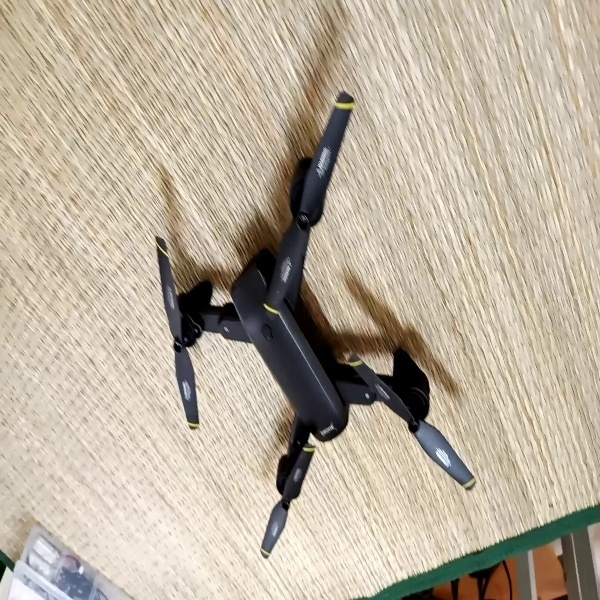drone: (147, 85, 478, 564)
